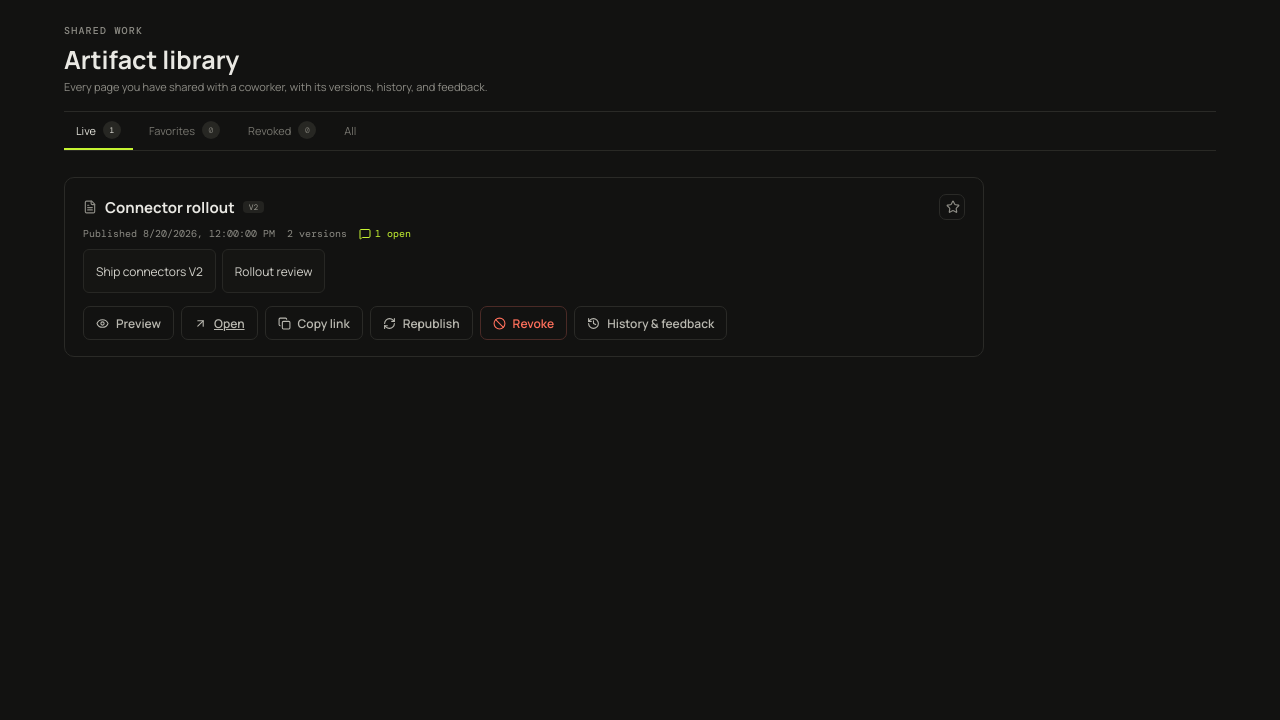
artifact library › shows version history, the publication timeline, and coworker feedback on demand
What coordinates should you click on to do the following:
click the button "History & feedback"
I would click on:
 (651, 323)
Its box is [574, 306, 727, 340].
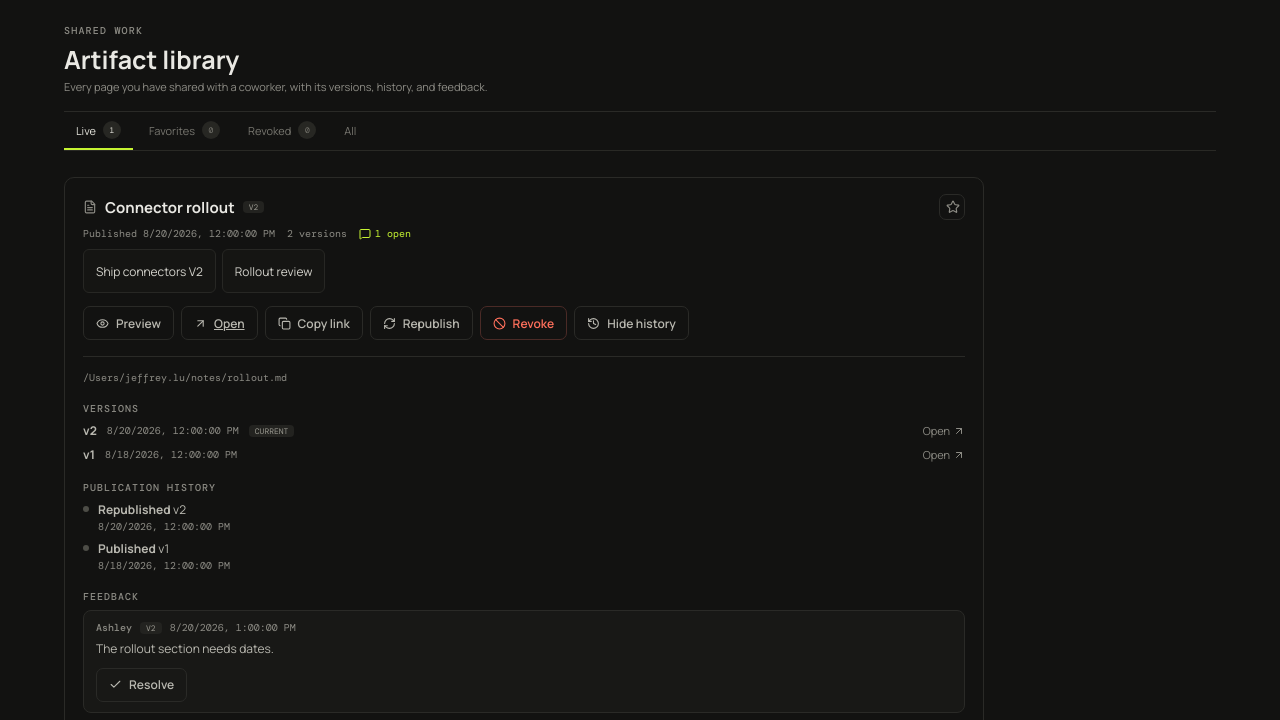
Check: the text "Republished" is shown, box [98, 501, 171, 518]
Check: the text "Published" is shown, box [98, 540, 156, 557]
Check: the text "Ashley" is shown, box [96, 621, 132, 634]
